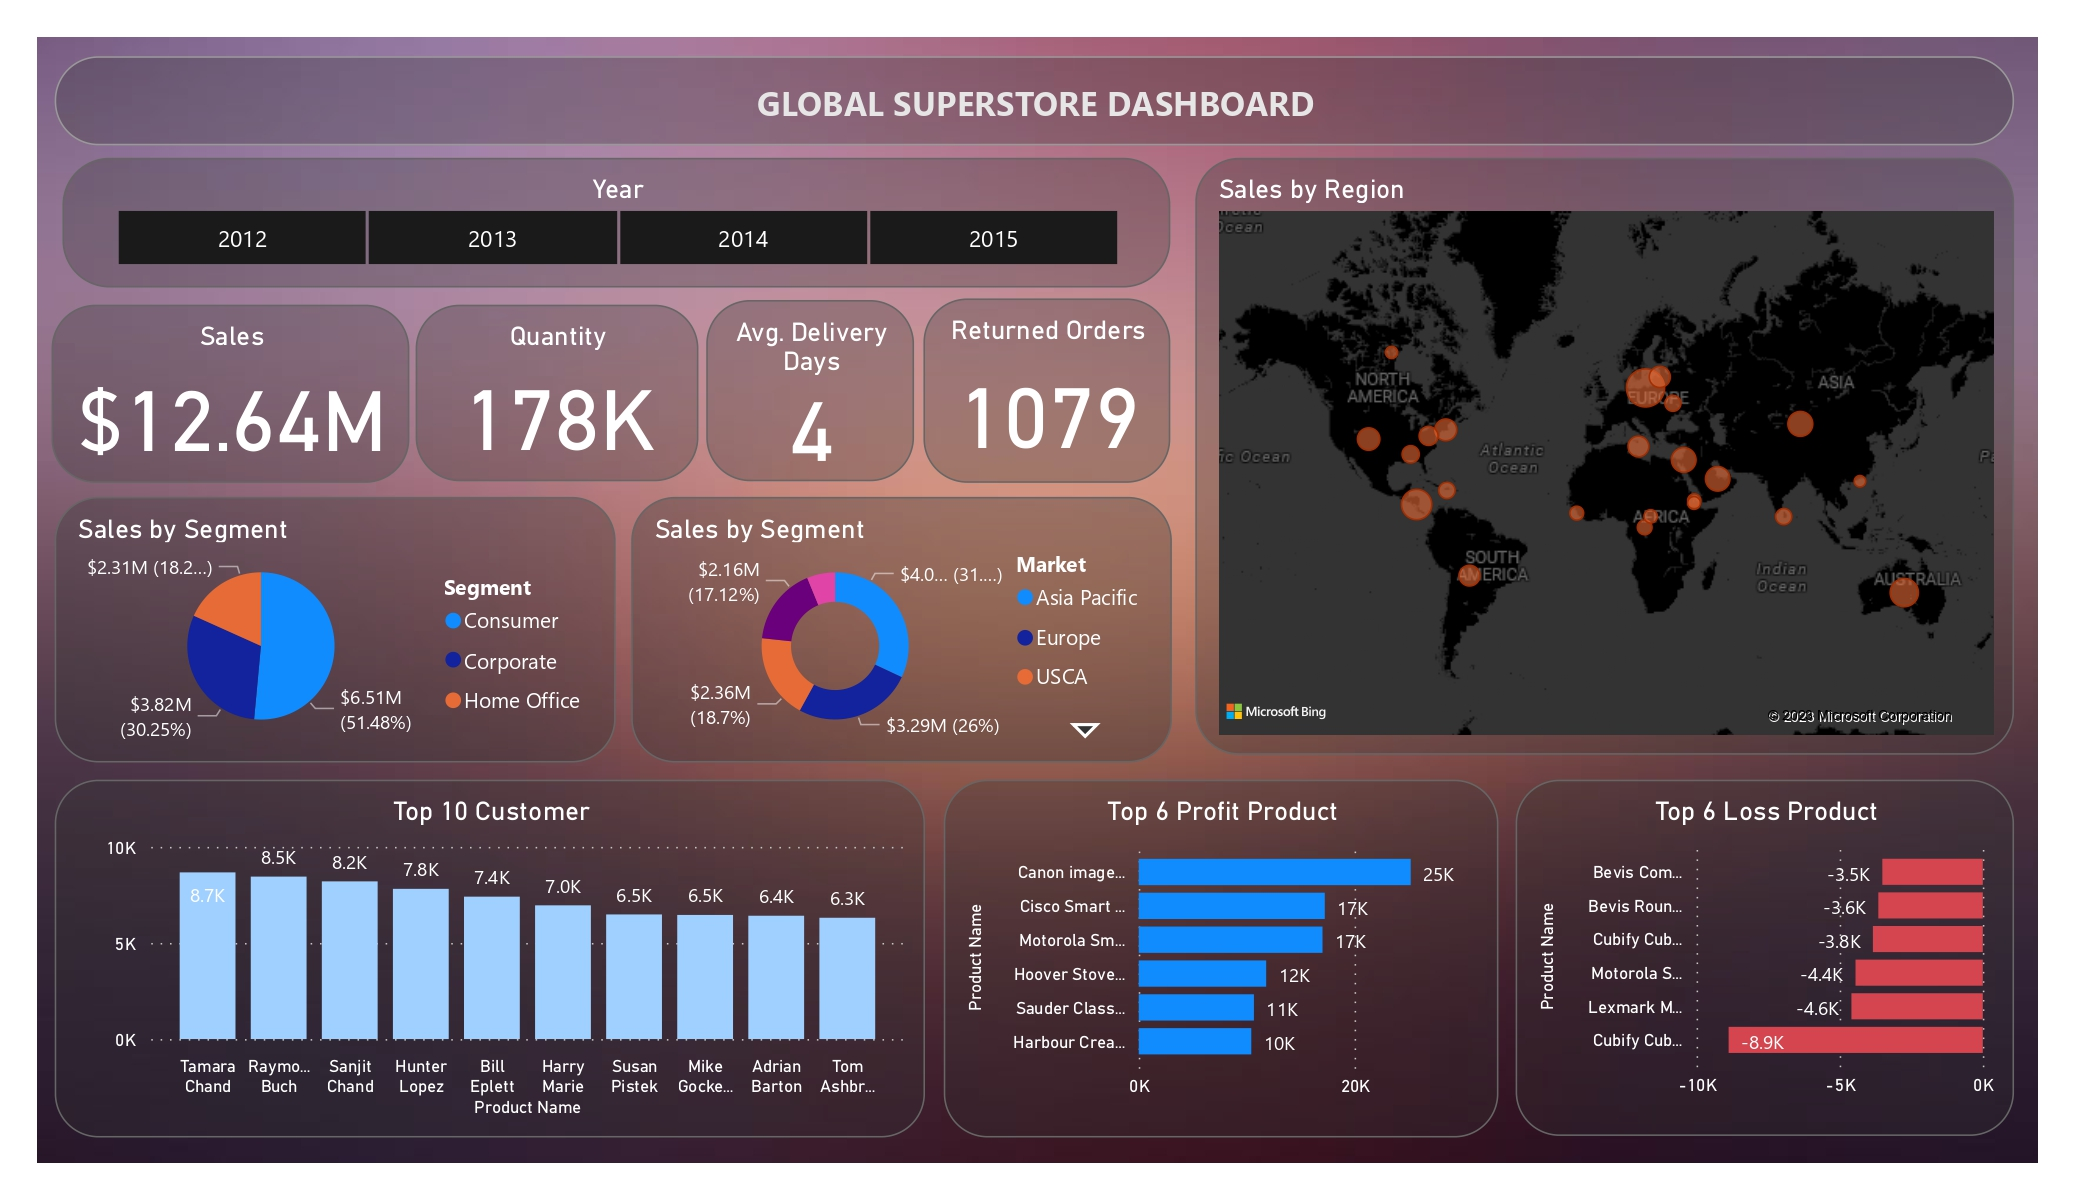

This screenshot's page, from the dashboard's own definition file:
{"tool":"powerbi","page":{"name":"Page 1","canvas":[1280,720],"ordinal":0},"visuals":[{"type":"card","title":"Sales","fields":{"Values":["Orders.Sales"]},"box":[8.8,170.8,229,114.6],"z":0},{"type":"card","title":"Quantity","fields":{"Values":["Orders.Quantity"]},"box":[241.9,170.8,181,113.5],"z":1000},{"type":"card","title":"Avg. Delivery Days","fields":{"Values":["Orders.Delivery Days"]},"box":[428.4,168,133,116.3],"z":2000},{"type":"slicer","title":"Year","fields":{"Values":["Orders.Year"]},"box":[15.7,77.2,709.1,83.2],"z":3000},{"type":"card","title":"Returned Orders","fields":{"Values":["Returns.Return orders"]},"box":[566.8,166.6,157.7,118.7],"z":4000},{"type":"map","title":"Sales by Region","fields":{"Size":["Orders.Sales"],"Category":["Orders.Region"]},"box":[740.5,77.2,524.6,382.3],"z":5000},{"type":"barChart","title":"Top 6 Profit Product","fields":{"Y":["Orders.Profit"],"Category":["Orders.Product Name"]},"box":[580.1,475.2,354.6,229.1],"z":6000},{"type":"barChart","title":"Top 6 Loss Product","fields":{"Y":["Orders.Profit"],"Category":["Orders.Product Name"]},"box":[945.5,475.2,319.6,227.9],"z":7000},{"type":"pieChart","title":"Sales by Segment","fields":{"Category":["Orders.Segment"],"Y":["Orders.Sales"]},"box":[10.9,294.3,359.4,170.1],"z":8000},{"type":"donutChart","title":"Sales by Segment","fields":{"Y":["Orders.Sales"],"Category":["Orders.Market"]},"box":[379.9,294.3,346.1,170.1],"z":9000},{"type":"columnChart","title":"Top 10 Customer","fields":{"Category":["Orders.Customer Name"],"Y":["Orders.Profit"]},"box":[10.9,475.2,557.2,229.1],"z":10000},{"type":"textbox","box":[10.9,12.1,1254.3,56.7],"z":11000}]}

Visuals, with their boxes on the page's 1280x720 design canvas (x1, y1, x2, y2). These are canvas units, not pixel positions in the 2075x1200 screenshot, which may show the page scaled, cropped or inside an application window:
"Sales" card: l=9, t=171, r=238, b=285
"Quantity" card: l=242, t=171, r=423, b=284
"Avg. Delivery Days" card: l=428, t=168, r=561, b=284
"Year" slicer: l=16, t=77, r=725, b=160
"Returned Orders" card: l=567, t=167, r=724, b=285
"Sales by Region" map: l=740, t=77, r=1265, b=460
"Top 6 Profit Product" barChart: l=580, t=475, r=935, b=704
"Top 6 Loss Product" barChart: l=946, t=475, r=1265, b=703
"Sales by Segment" pieChart: l=11, t=294, r=370, b=464
"Sales by Segment" donutChart: l=380, t=294, r=726, b=464
"Top 10 Customer" columnChart: l=11, t=475, r=568, b=704
textbox: l=11, t=12, r=1265, b=69
